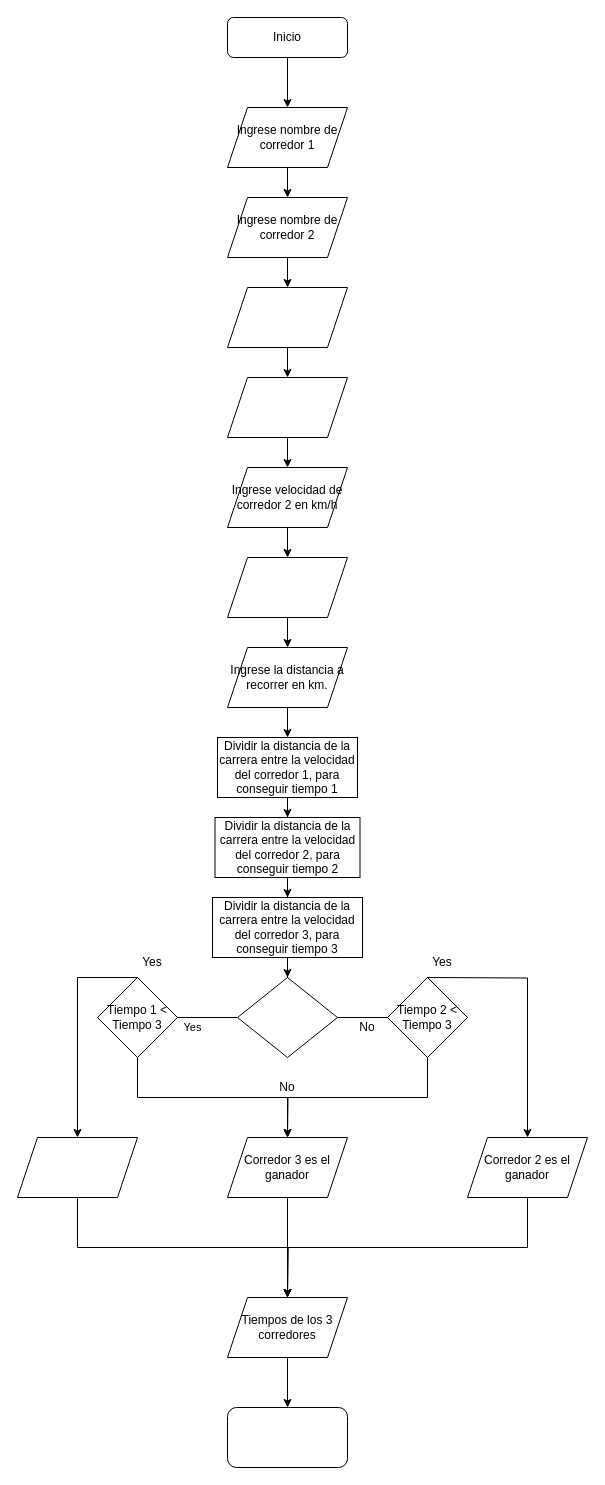
Some shapes in this 605 by 1485 pixel diagram are drawn without their labels. Each missing label, with the centre of its shape:
Corredor 1 es el ganador: pixel 77 1167
Fin: pixel 287 1437
Ingrese nombre de corredor 3: pixel 287 317
Ingrese velocidad de corredor 1 en km/h: pixel 287 407
Ingrese velocidad de corredor 3 en km/h: pixel 287 587
Tiempo 1 < Tiempo 2: pixel 287 1017
